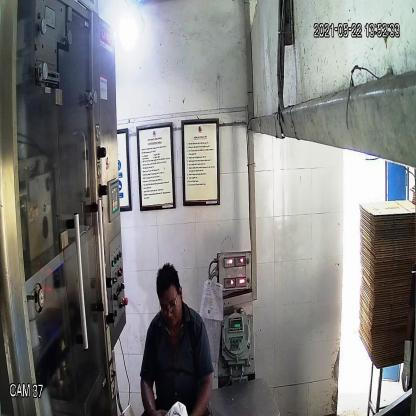goggles: (158, 295, 181, 317)
